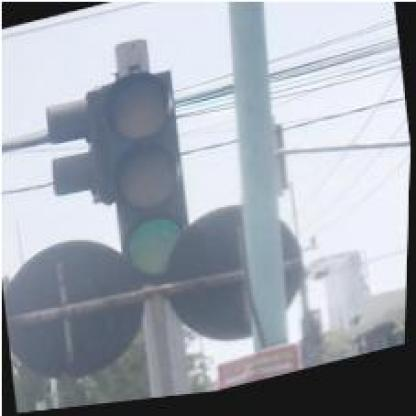green: (94, 68, 196, 291)
